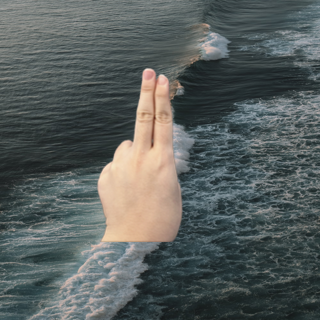DHAVE: (93, 64, 185, 240)
